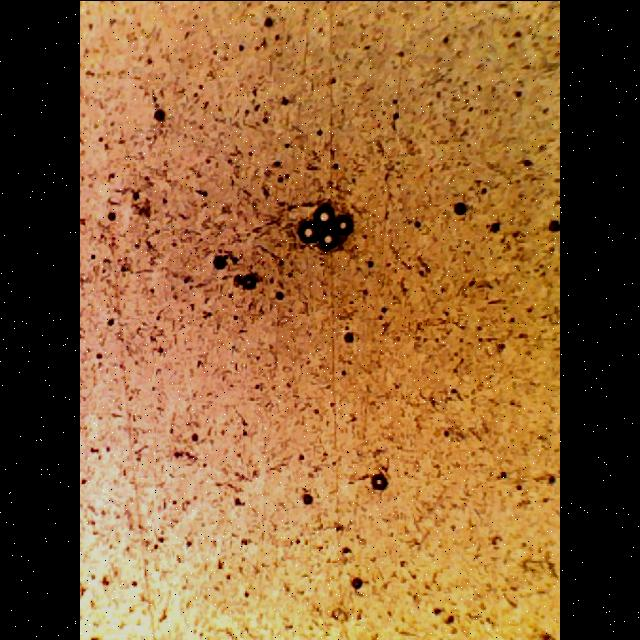microbeads: (318, 228, 340, 250), (314, 202, 334, 226), (296, 222, 322, 240)
